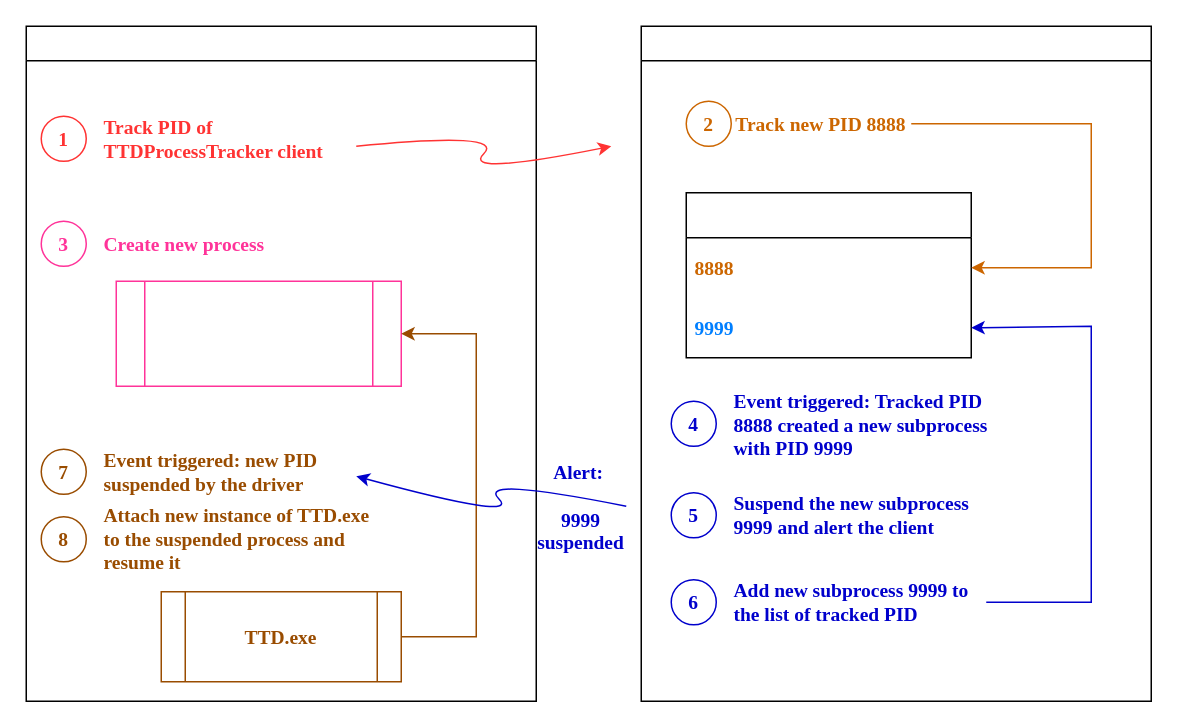
Image size: 1178x728. Some labels were removed from this diagram. The box of each missing label's shape, as (x1, y1, x2, y2) in pixels:
List of tracked PID: (685, 191, 971, 358)
MyProcess.exe PID: 9999: (115, 280, 401, 386)
TTDProcessTracker client: PID 8888: (25, 25, 536, 701)
TTDProcessTracker driver: (640, 25, 1151, 701)
